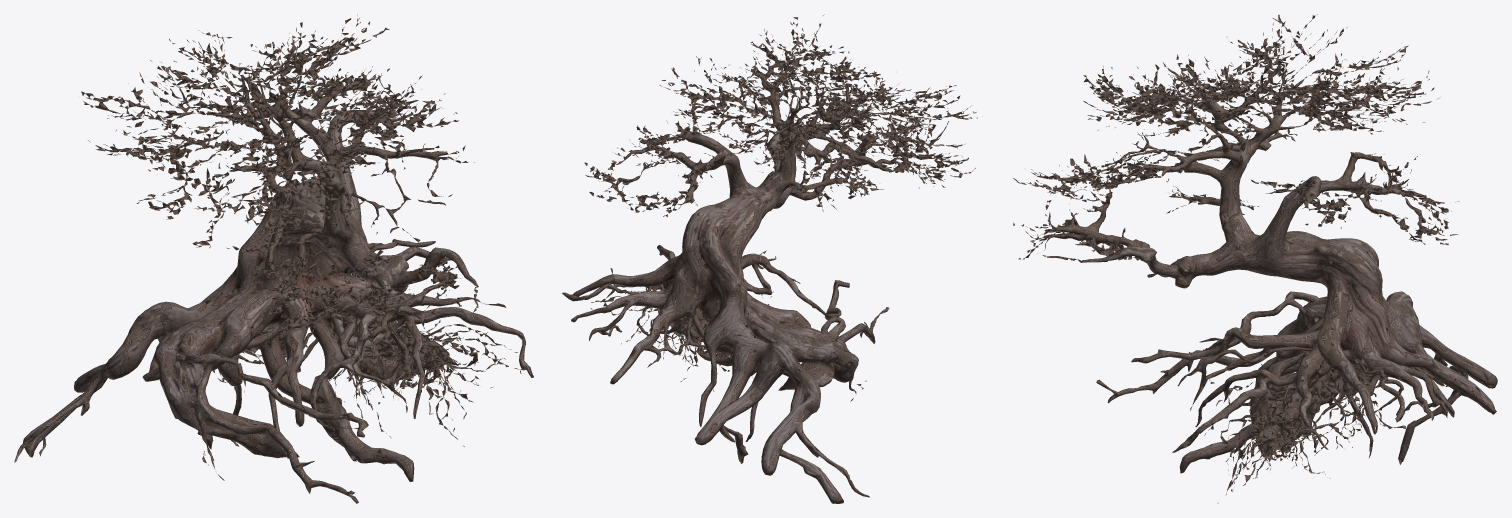
Rendered from dreftwood tree.opt.glb.
The picture shows the model from 3 angles, left to right: view 1: azimuth 30°, elevation 25°; view 2: azimuth 150°, elevation 25°; view 3: azimuth 270°, elevation 25°; orthographic projection. The views are drawn at different scales.
Parts seen in each view (by area): view 1: mesh_node; view 2: mesh_node; view 3: mesh_node.
Boxes of the visible parts, bbox=[...] form: mesh_node: bbox=[14, 14, 533, 503]; mesh_node: bbox=[562, 14, 977, 503]; mesh_node: bbox=[1013, 14, 1497, 503].
Bounding box in the file's own units: 0.8935 × 0.9691 × 0.9827.
1 material, 1 textured.
